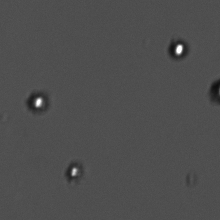Living Cell: (25, 87, 50, 116), (167, 36, 191, 60), (63, 159, 86, 182)
